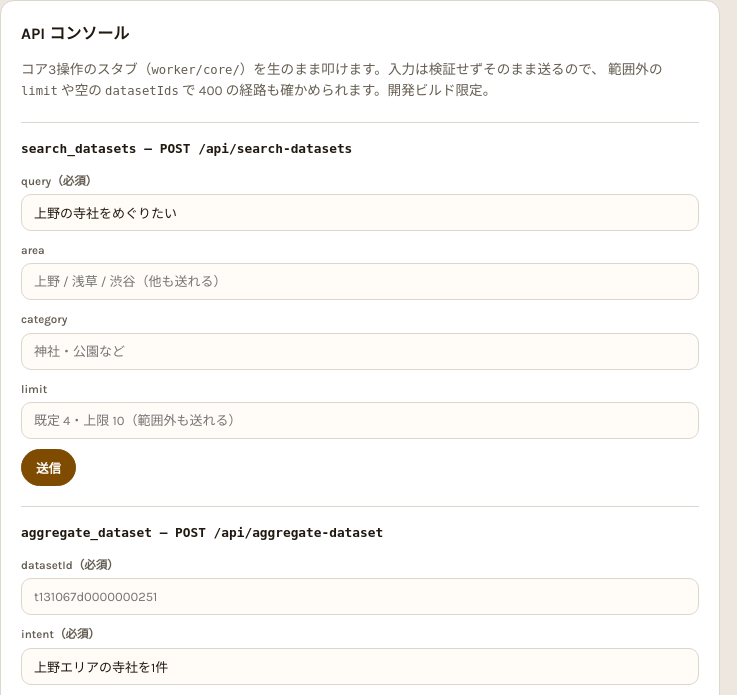
Test: ApiConsole › unanswered 応答はエラーではなく「回答なし（正常）」として表示される
The image size is (737, 695).
Click the button "送信" below "category" at [48, 468], box [21, 449, 76, 486]
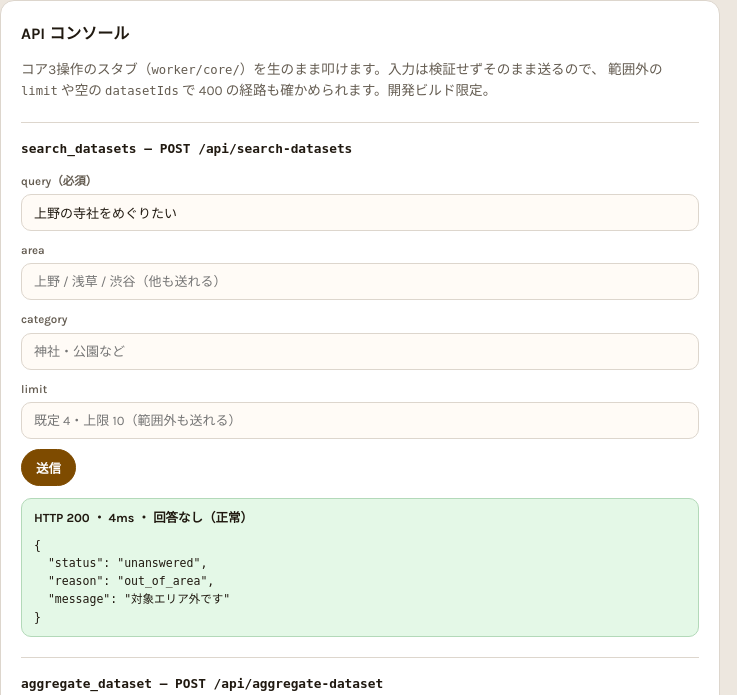
Check: the message shows "回答なし（正常）", box [34, 511, 253, 525]
